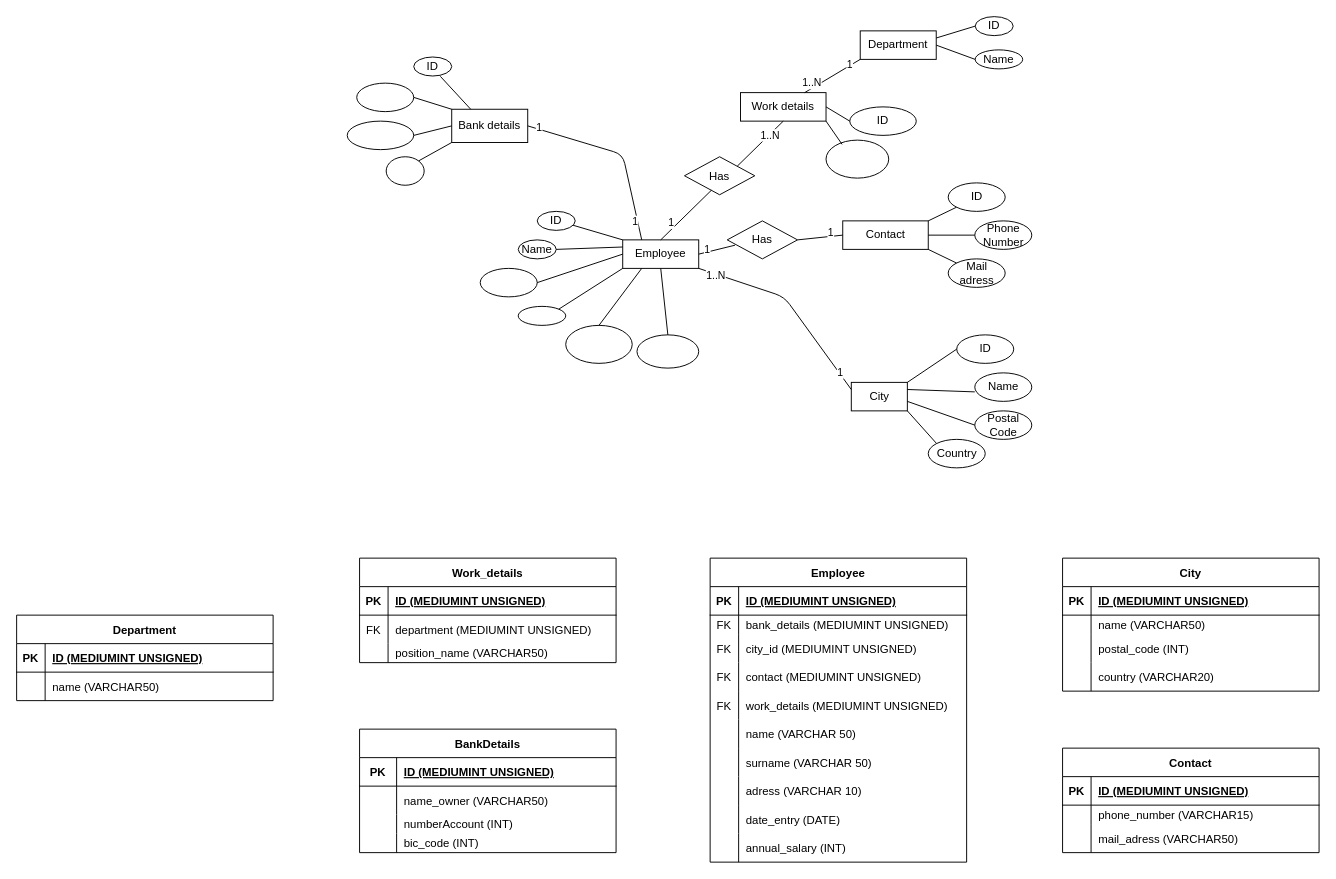
Some shapes in this 1336 by 879 pixel diagram are drawn without their labels. The centre of each missing label's shape, as x and y in pixels:
Adress: the point at 541,315
Annual salary: the point at 667,351
Bic code: the point at 404,170
Date of entry: the point at 598,343
Name owner: the point at 385,97
Number account: the point at 380,135
Position name: the point at 857,158
Surname: the point at 508,282
